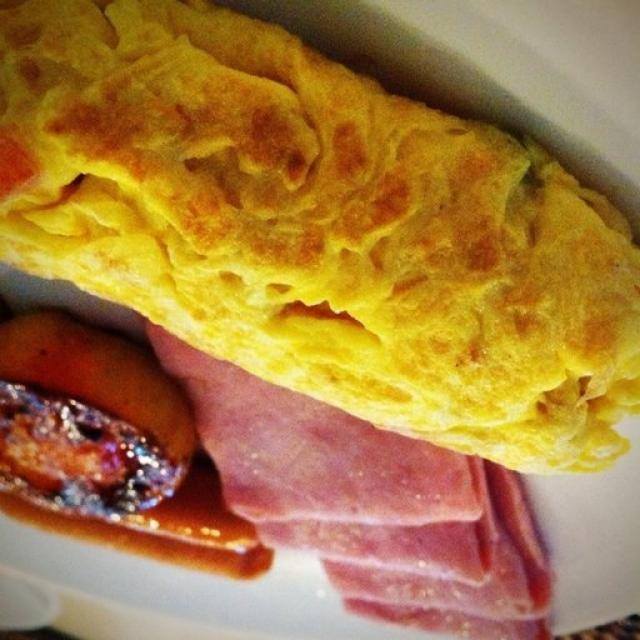telur_ayam_dadar: (0, 1, 639, 480)
